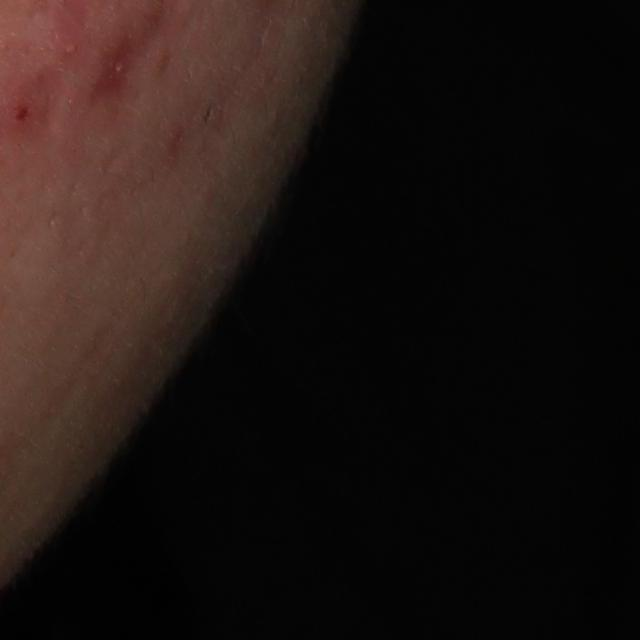papule: (3, 92, 45, 134)
